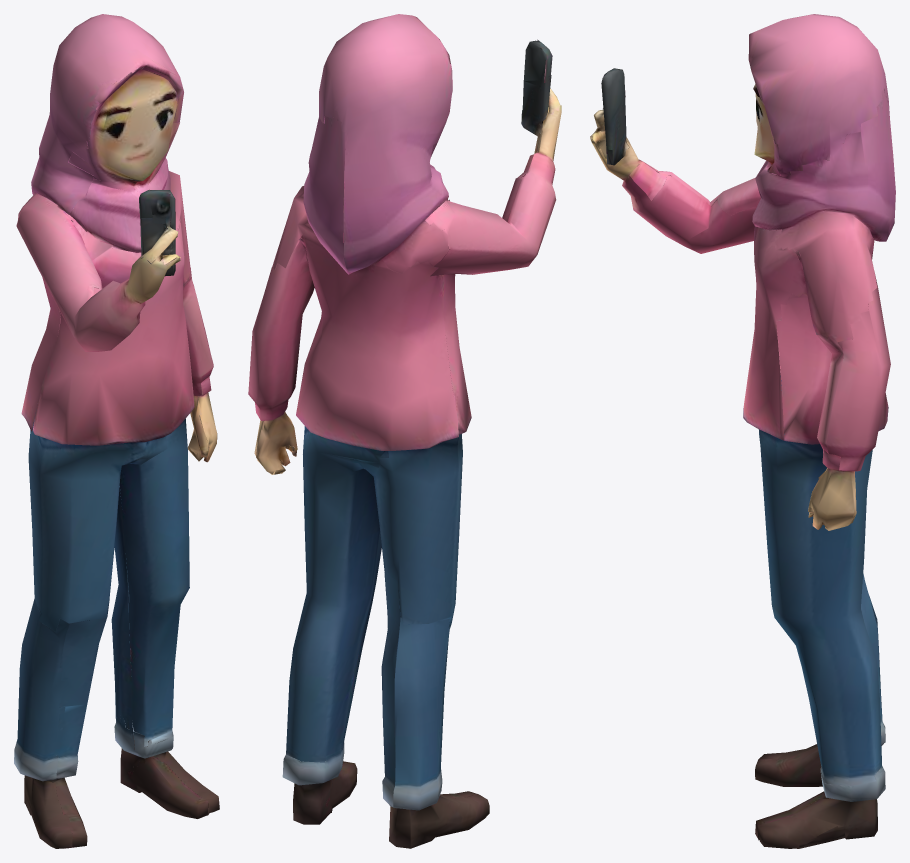
The model's file is crowd-woman.glb.
3 views of the same model, side by side, from view 1: azimuth 30°, elevation 25°; view 2: azimuth 150°, elevation 25°; view 3: azimuth 270°, elevation 25° (orthographic).
Parts seen in each view (by area): view 1: model; view 2: model; view 3: model.
Part boxes in pixels (box(x1,y1,x2,y2)): model: box(14, 14, 219, 848); model: box(248, 14, 561, 848); model: box(590, 14, 895, 848).
Bounding box in the file's own units: 0.4421 × 1.6 × 0.5581.
1 material, 1 textured.
